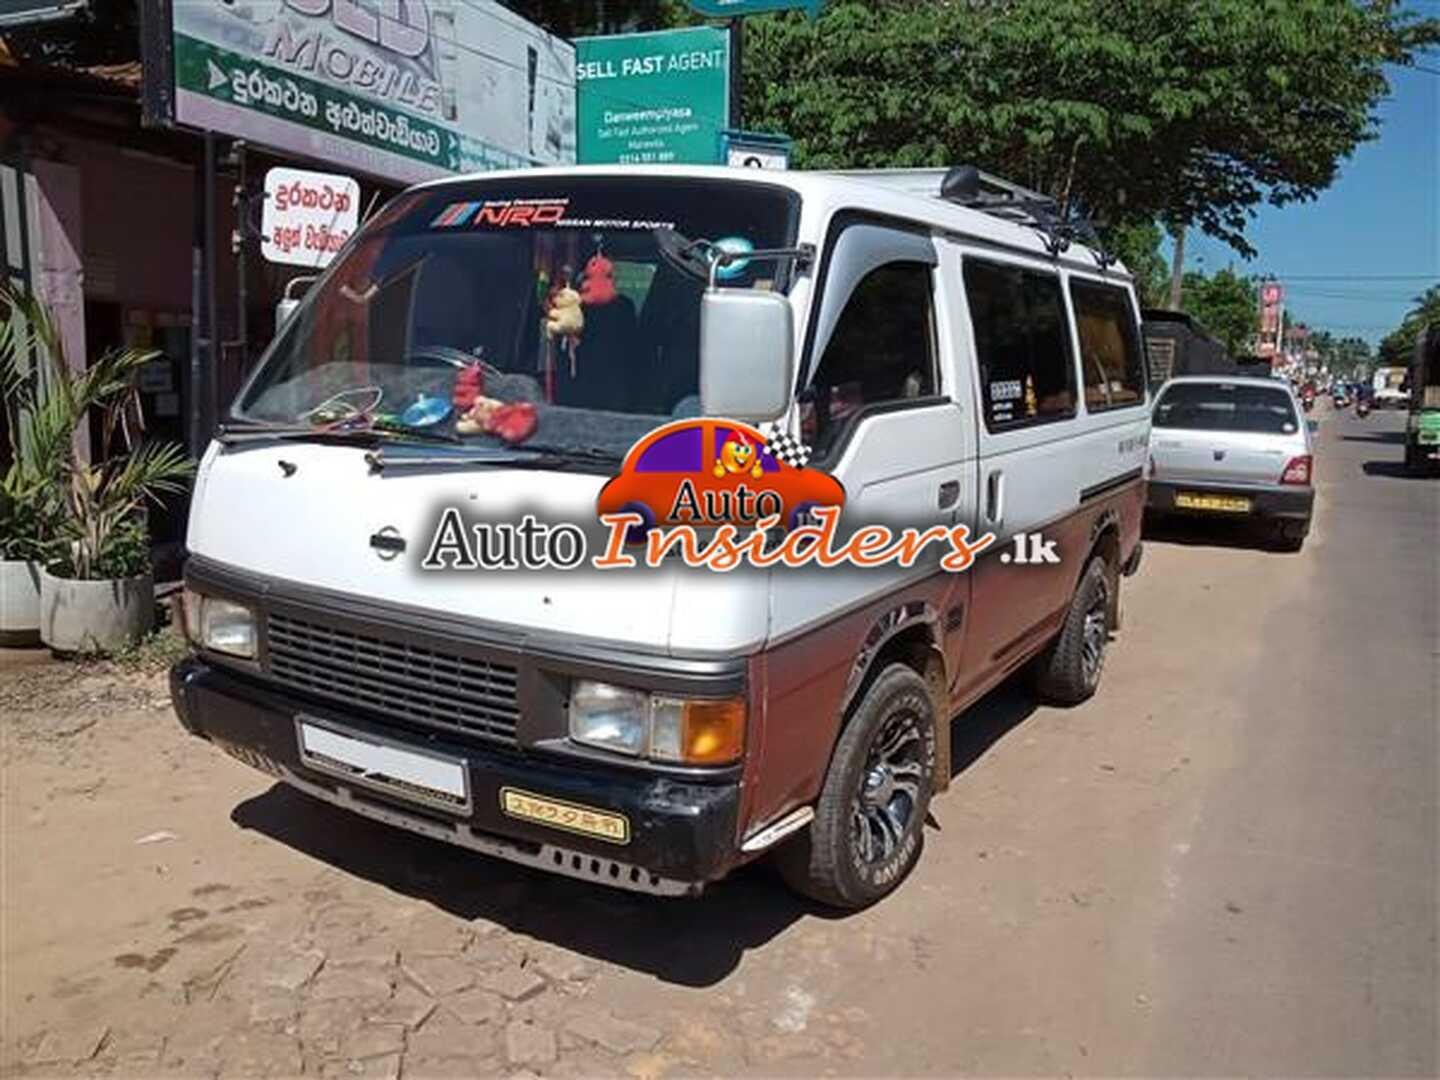Van: (175, 150, 1144, 916)
